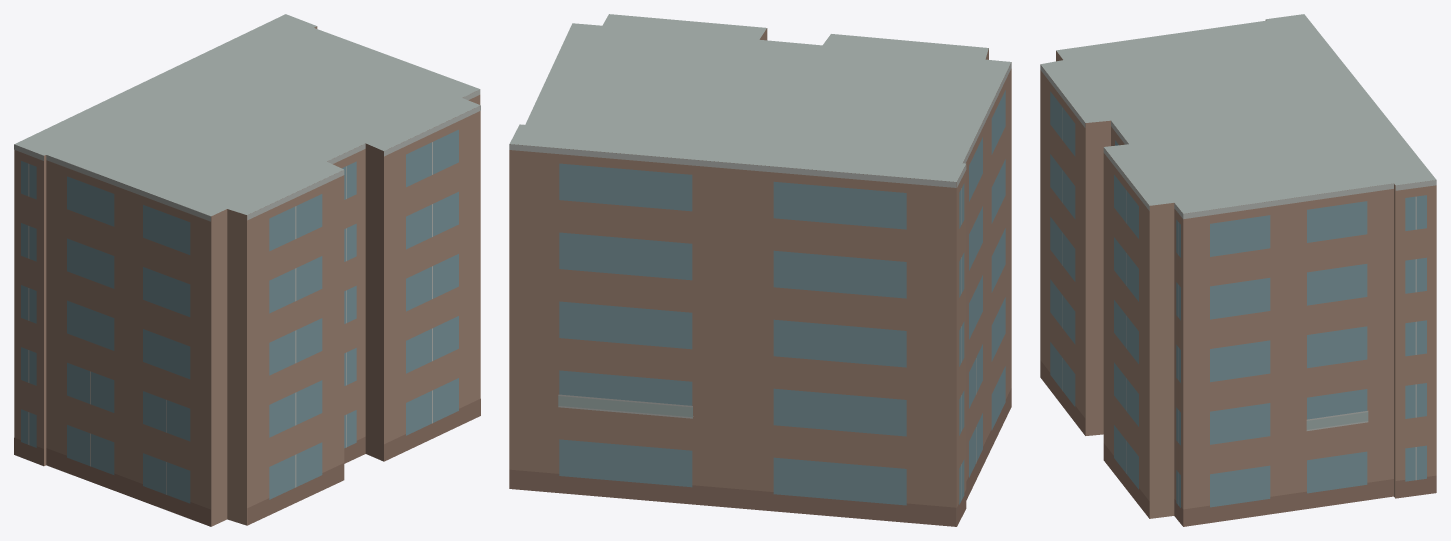
File: survey-upis-32970469.glb
3 renders of one model, left to right at view 1: azimuth 30°, elevation 25°; view 2: azimuth 150°, elevation 25°; view 3: azimuth 270°, elevation 25°, orthographic. The views are drawn at different scales.
Visible parts, largest first — view 1: survey-upis-32970469.tmp; view 2: survey-upis-32970469.tmp; view 3: survey-upis-32970469.tmp.
Boxes of the visible parts, left/top/right/bottom form: survey-upis-32970469.tmp: left=14, top=14, right=480, bottom=526; survey-upis-32970469.tmp: left=509, top=14, right=1011, bottom=526; survey-upis-32970469.tmp: left=1040, top=14, right=1436, bottom=526.
Bounding box in the file's own units: 19.31 × 14.1 × 16.18.
